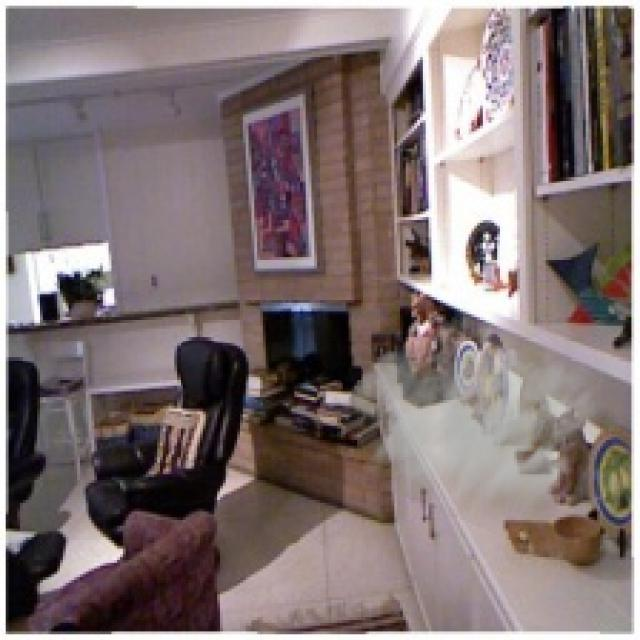smoke: (332, 308, 614, 546)
